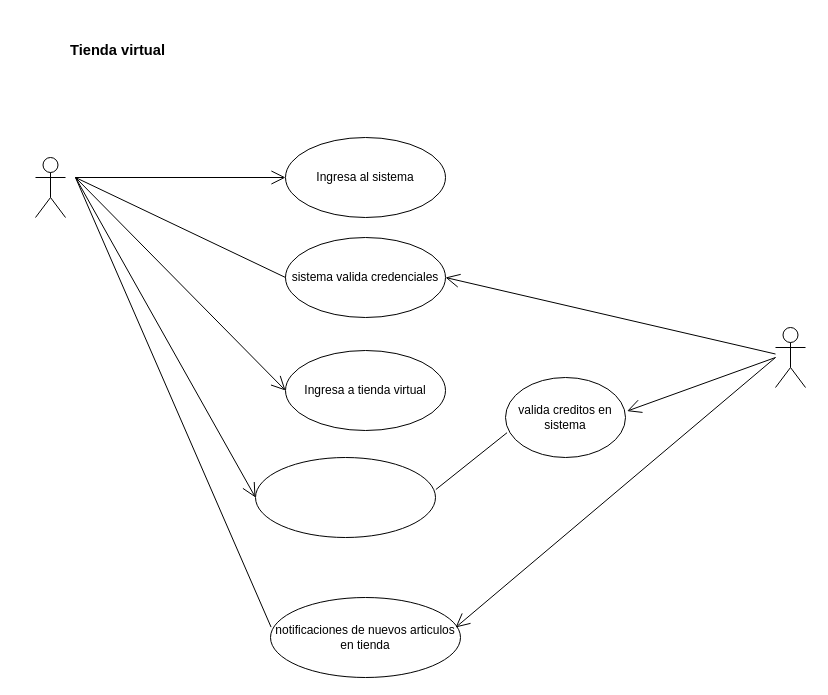
Image size: 828x695. Some labels were removed from this diagram. Here are the shapes that lost their labels. From the top down, the centre of each, then its label:
the point at 50,187: Usuario final
the point at 790,357: sistema
the point at 345,497: Gestiona compras
